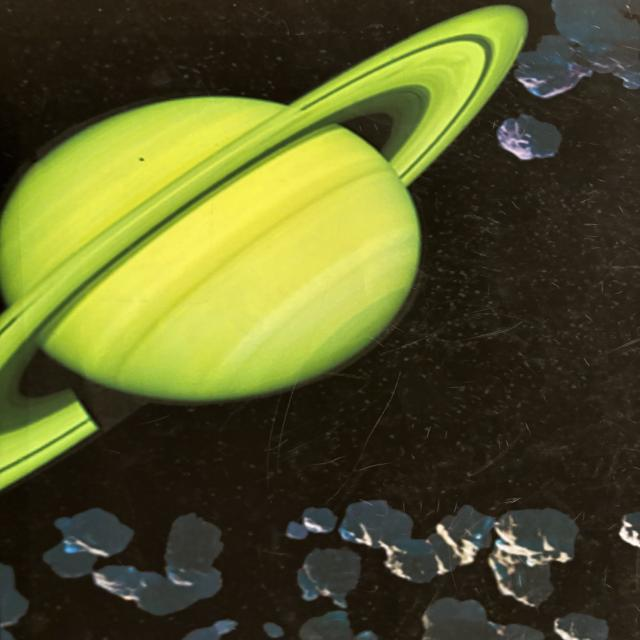Asteroids: (5, 493, 640, 640), (493, 0, 640, 154)
Saturn: (0, 0, 528, 489)
